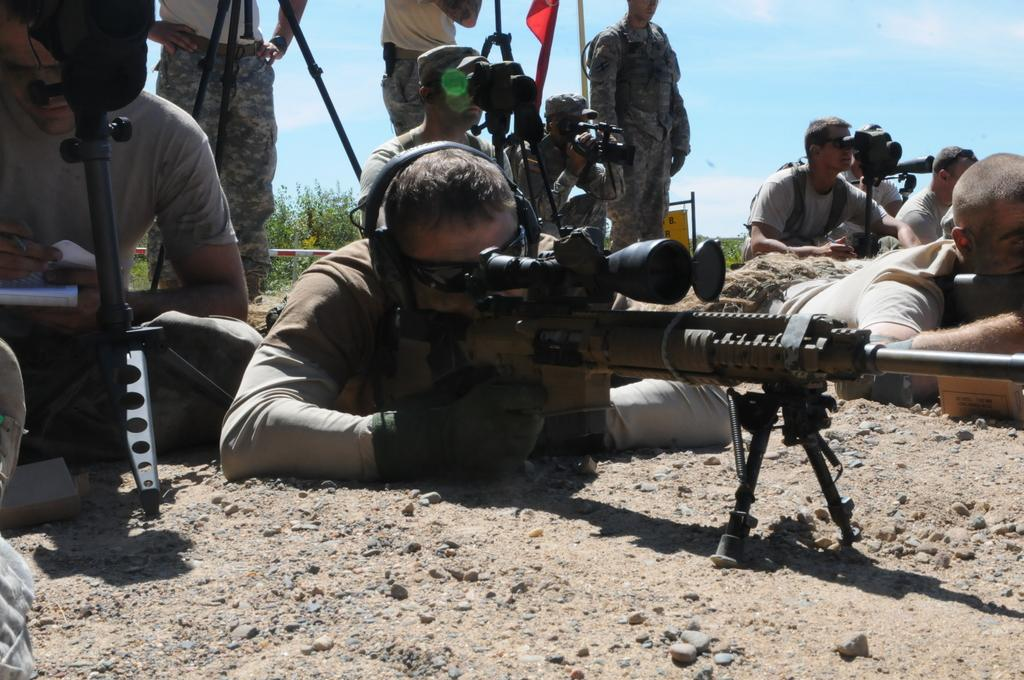Rifle: (461, 220, 1023, 571)
